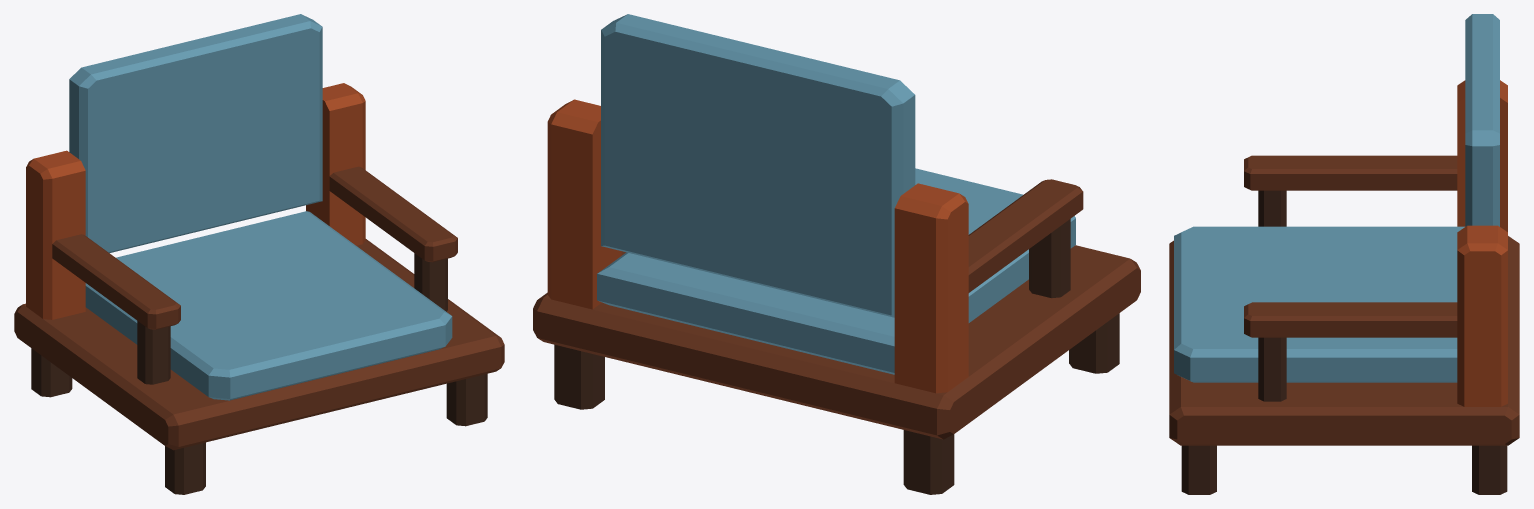
The model's file is Chair 04.fbx.
3 views of the same model, side by side, from view 1: azimuth 30°, elevation 25°; view 2: azimuth 150°, elevation 25°; view 3: azimuth 270°, elevation 25° (orthographic). The views are drawn at different scales.
Parts seen in each view (by area): view 1: Chair_01; view 2: Chair_01; view 3: Chair_01.
Boxes of the visible parts, left/top/right/bottom form: Chair_01: left=14, top=14, right=504, bottom=494; Chair_01: left=533, top=14, right=1140, bottom=494; Chair_01: left=1169, top=14, right=1519, bottom=494.
Size of the model in its own units: 88.16 by 78.32 by 73.14.
